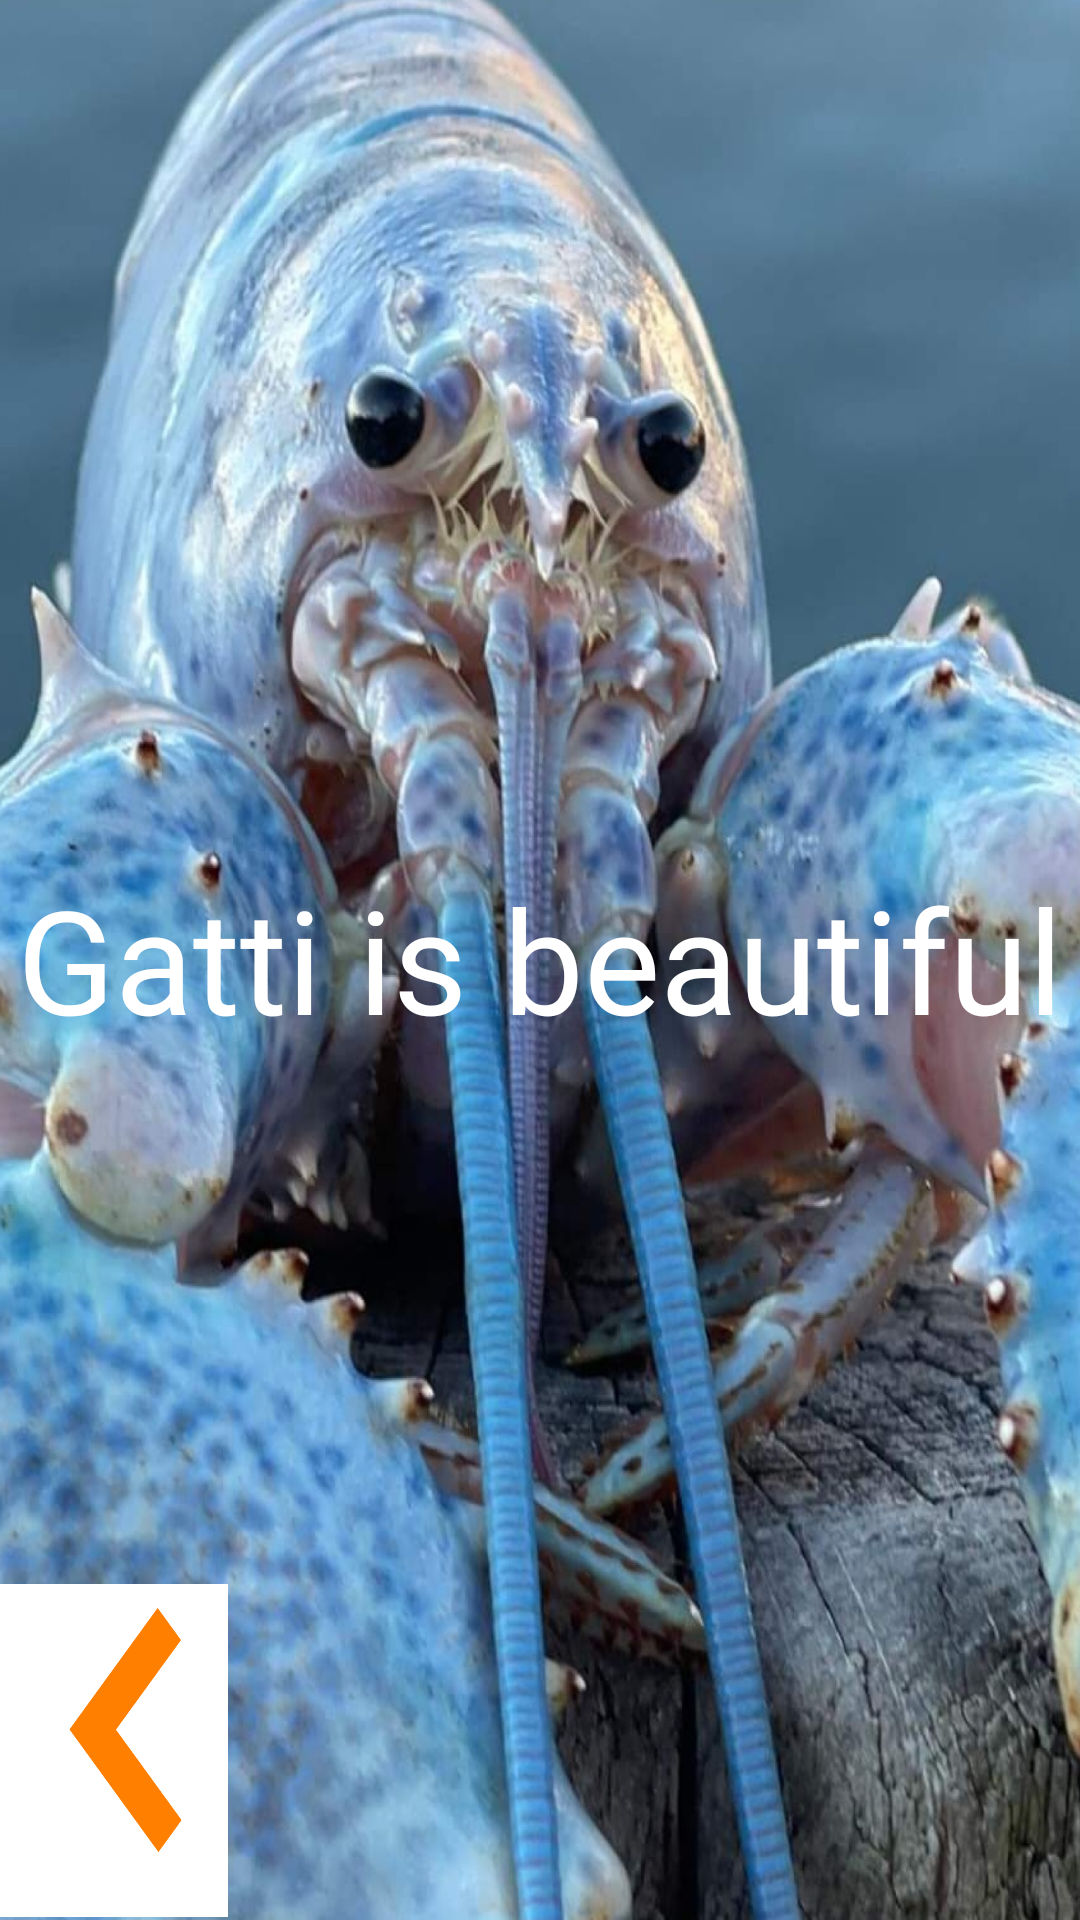

Icon bounding boxes for this 1080px x 1920px phone screenshot, format [x1,y1,x2,y2]:
setalaranja: [0,1584,228,1917]
